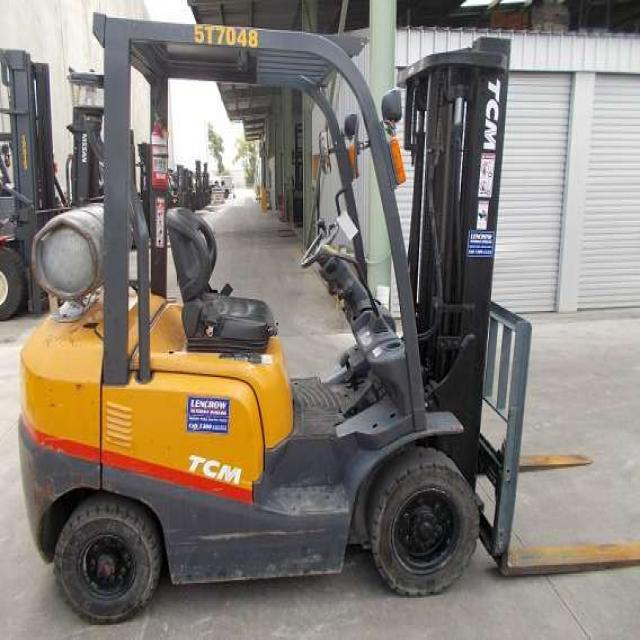forklift: (5, 21, 549, 618)
